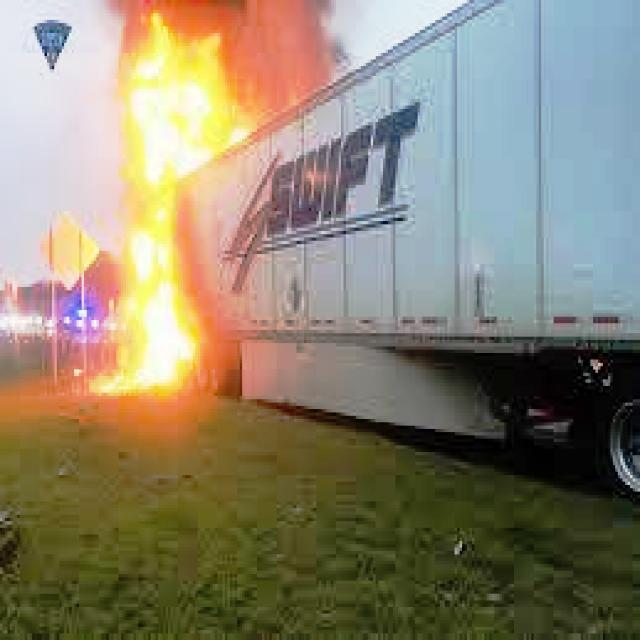api: (85, 17, 268, 407)
